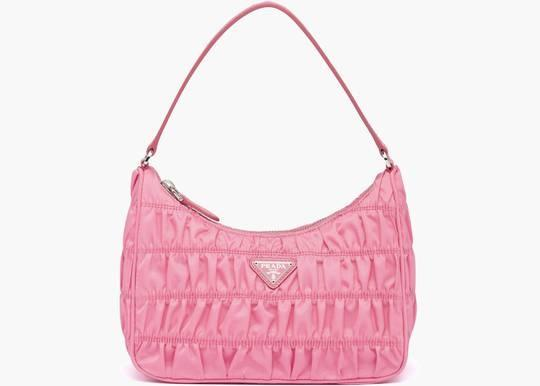PRADA: (252, 261, 293, 284)
